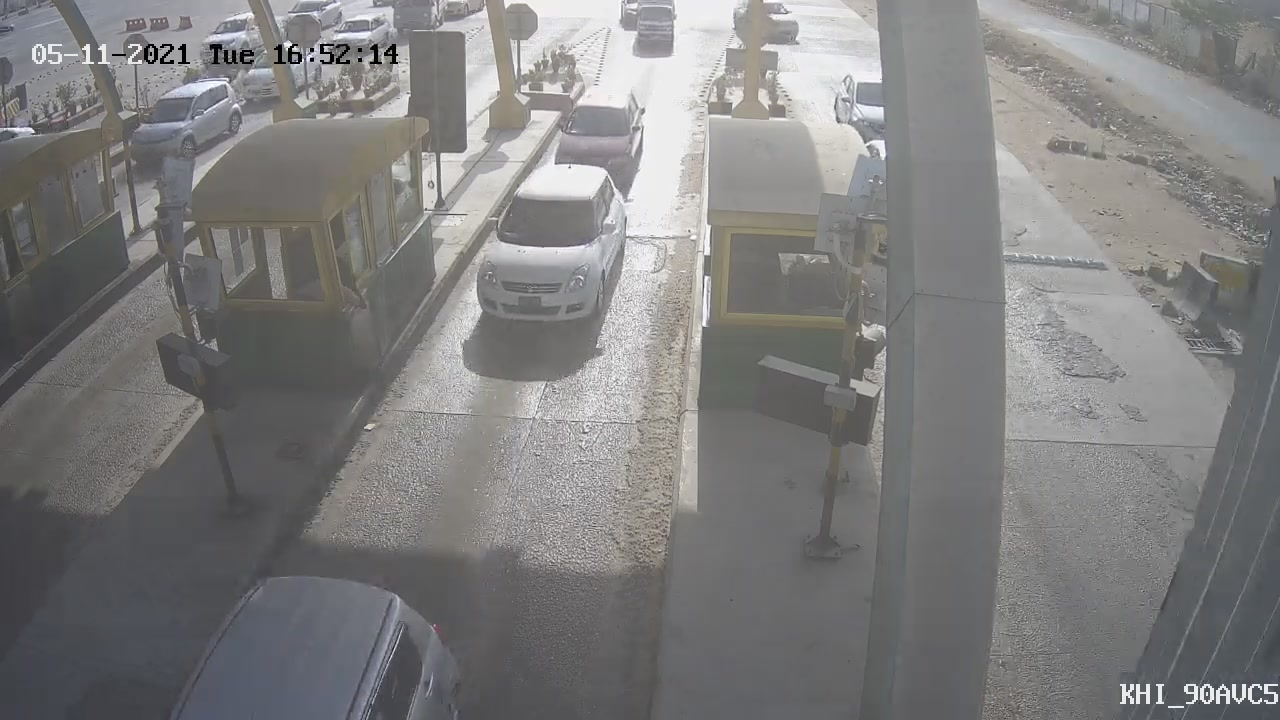F1: (456, 146, 647, 353)
